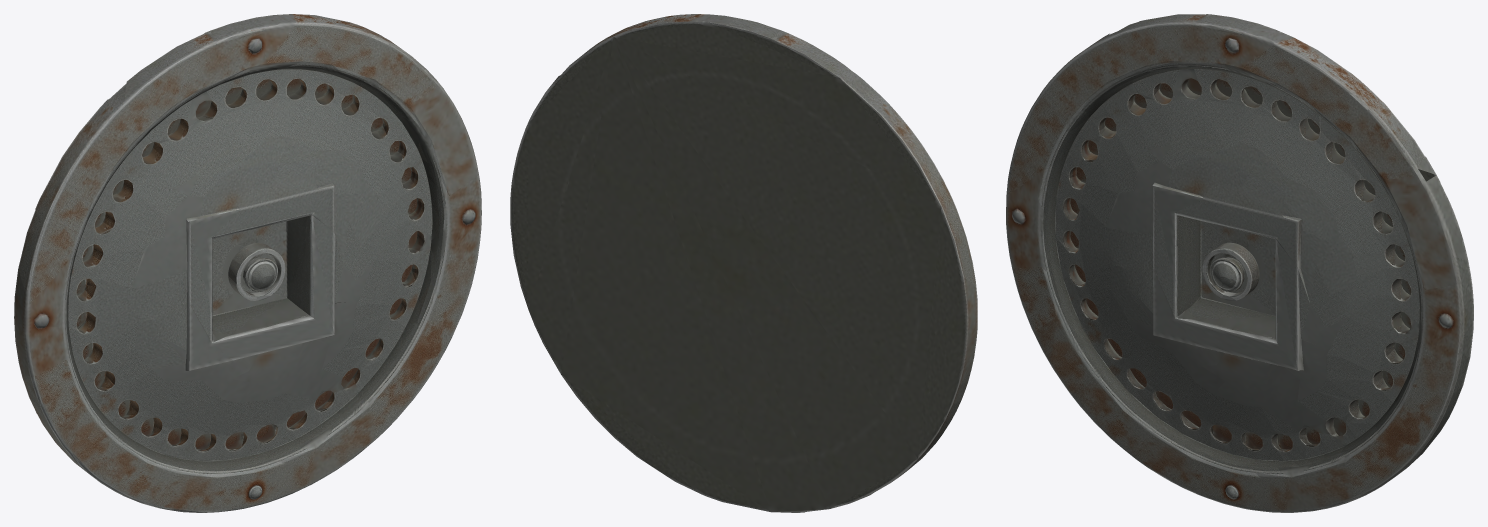
The model's file is bocchetta.glb.
3 views of the same model, side by side, from view 1: azimuth 30°, elevation 25°; view 2: azimuth 150°, elevation 25°; view 3: azimuth 330°, elevation 25° (orthographic).
Bounding box in the file's own units: 1.9 × 1.9 × 0.1657.
Materials: 1 (1 with a texture image).
